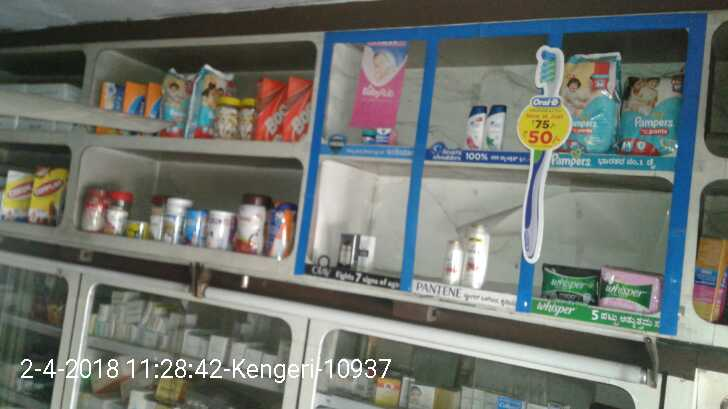vicks: (377, 128, 396, 144), (360, 128, 376, 144)
